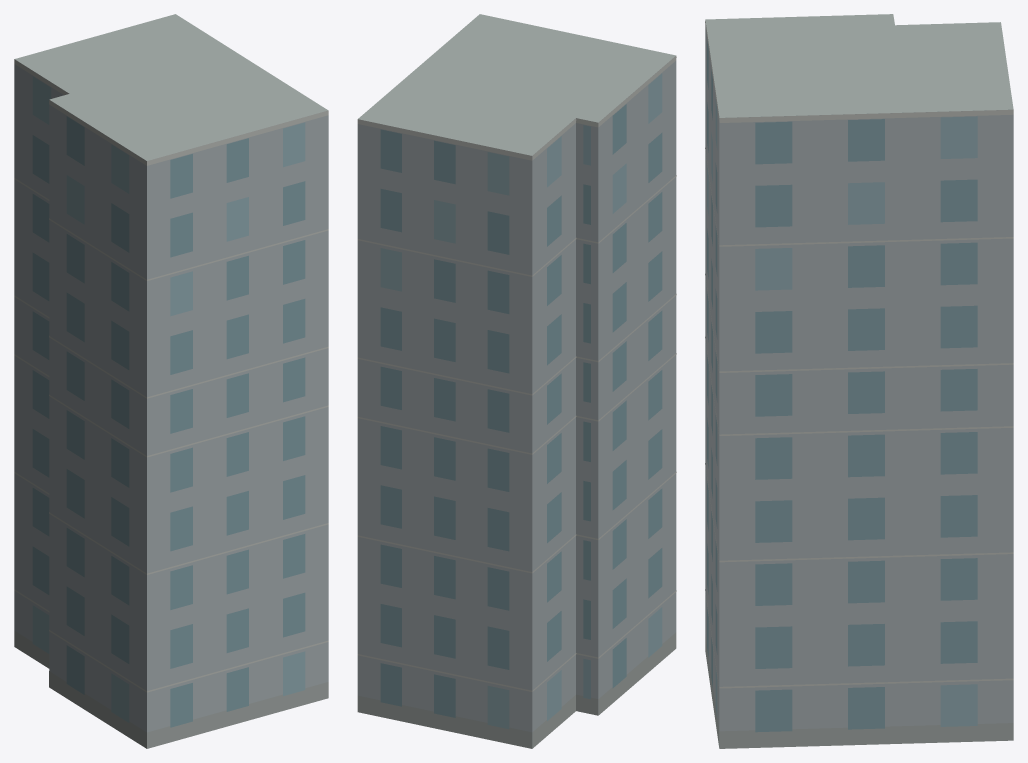
The model's file is survey-upis-32981698.glb.
The picture shows the model from 3 angles, left to right: view 1: azimuth 30°, elevation 25°; view 2: azimuth 150°, elevation 25°; view 3: azimuth 270°, elevation 25°; orthographic projection. The views are drawn at different scales.
Visible parts, largest first — view 1: survey-upis-32981698.tmp; view 2: survey-upis-32981698.tmp; view 3: survey-upis-32981698.tmp.
Boxes of the visible parts, x1,y1,x2,y2 form: survey-upis-32981698.tmp: (14,14,328,748); survey-upis-32981698.tmp: (357,14,676,748); survey-upis-32981698.tmp: (705,14,1013,748).
Size of the model in its own units: 10.59 by 29.9 by 13.27.
